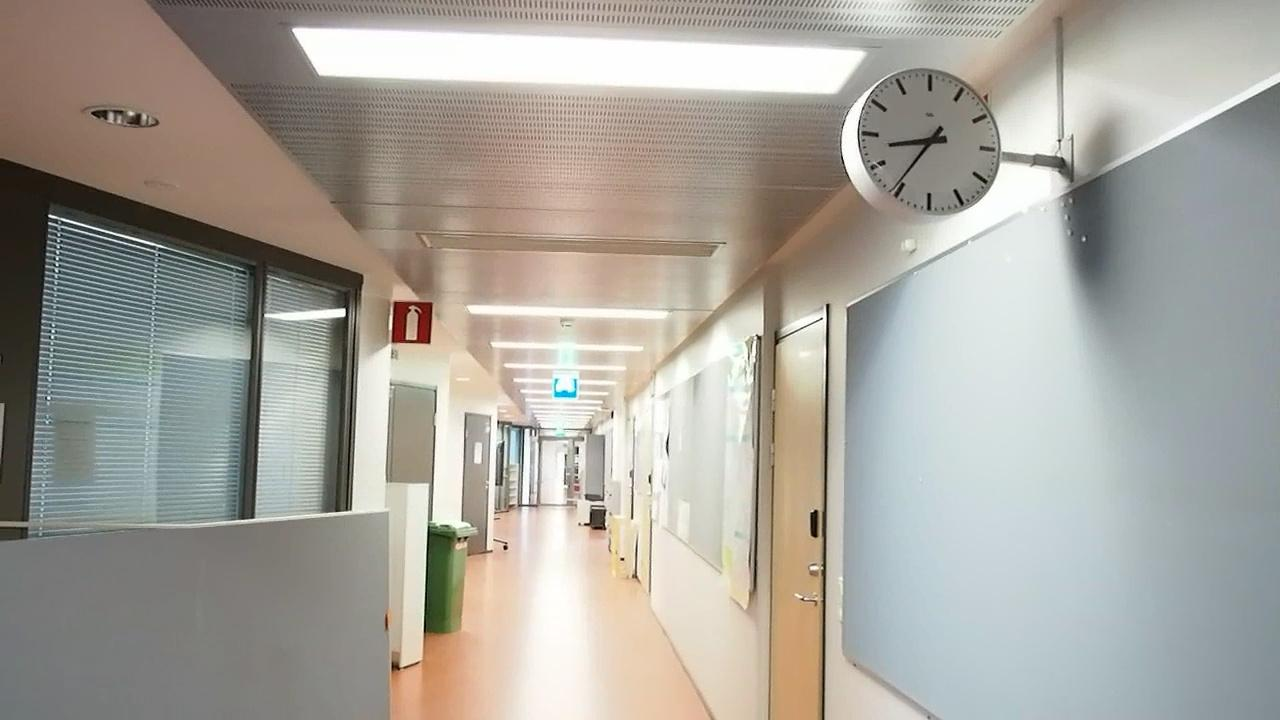clock: (844, 58, 1011, 231)
trashbin: (427, 520, 473, 638)
